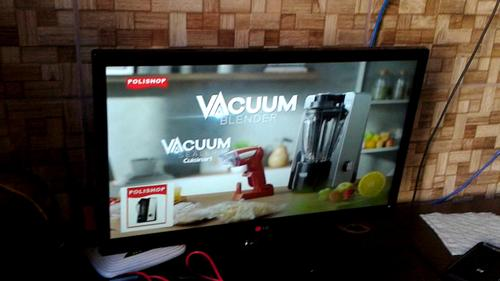Polishop #1: (120, 180, 174, 232)
